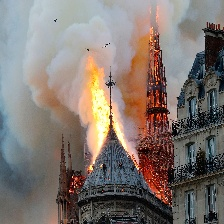fire: (88, 70, 129, 158), (146, 36, 169, 130)
smoke: (3, 1, 184, 131)
